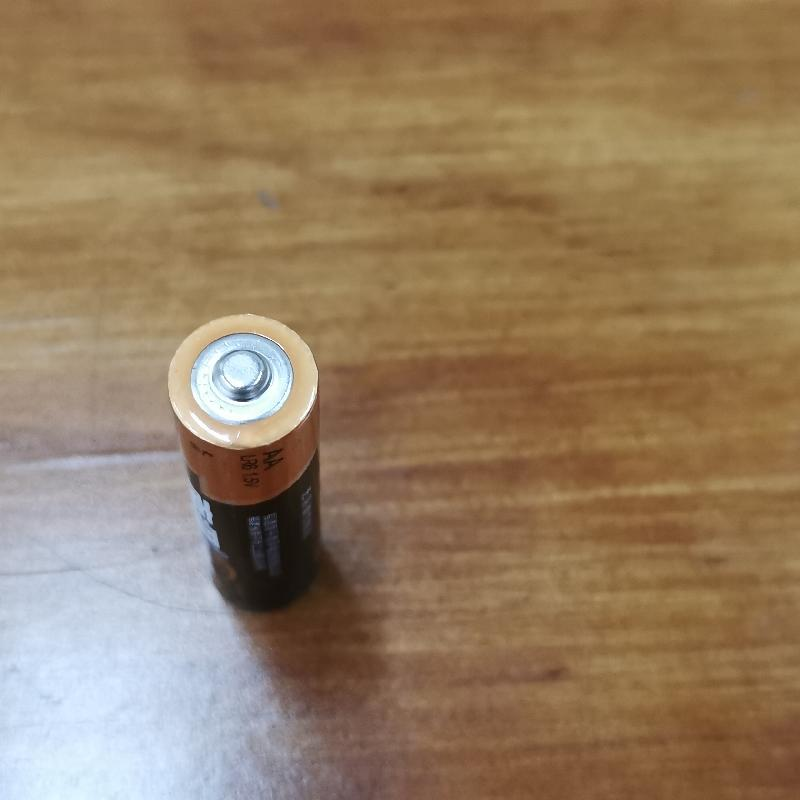battery: (157, 303, 329, 623)
